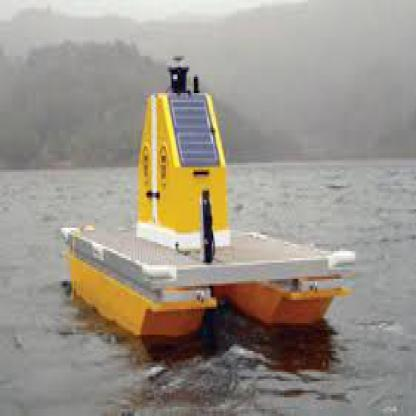buoy: (53, 46, 363, 354)
